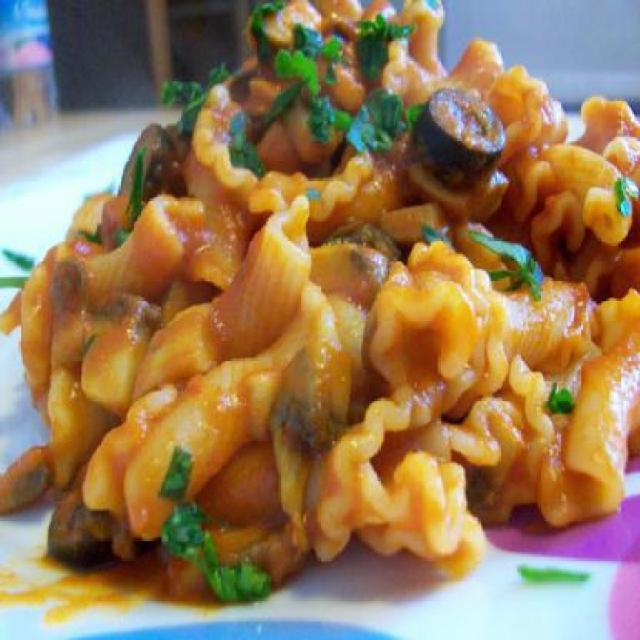Pasta al ragu: (36, 4, 639, 582)
